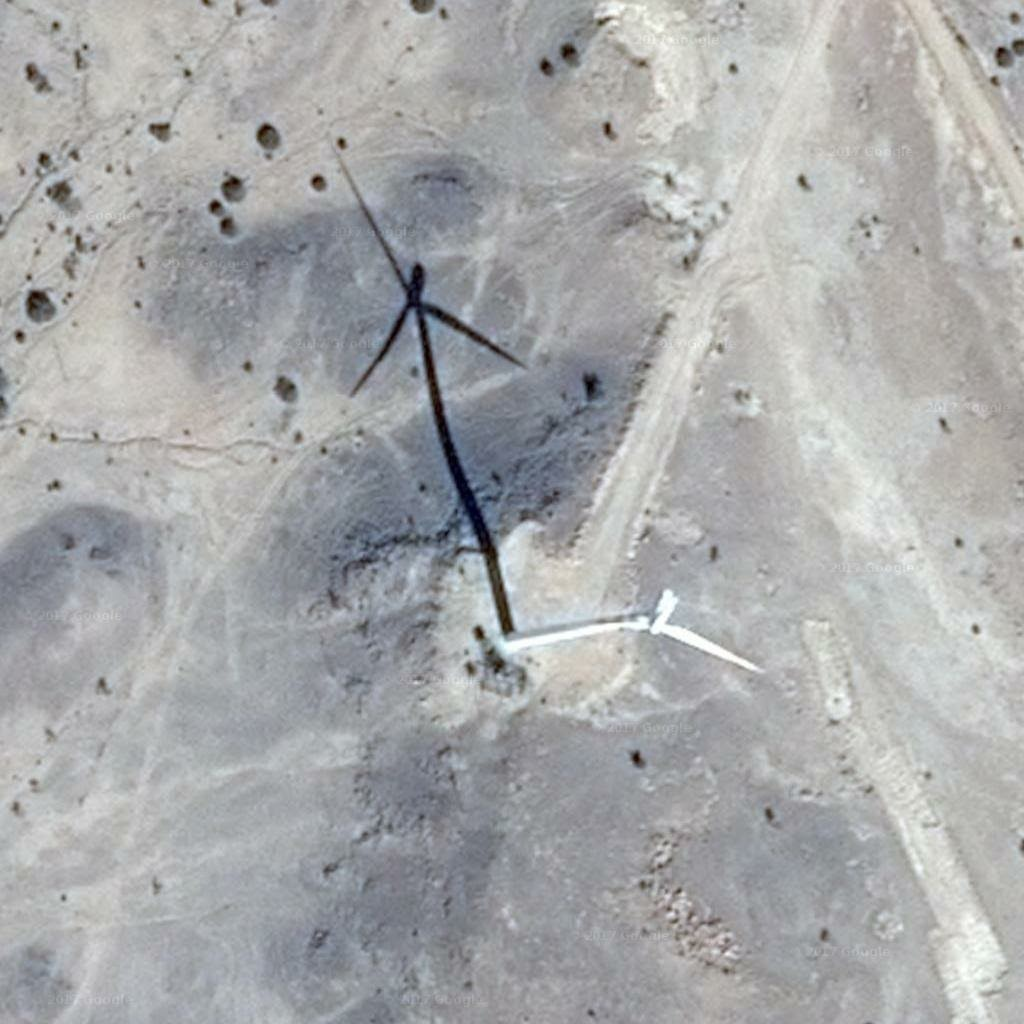Windmill: (313, 132, 527, 638)
